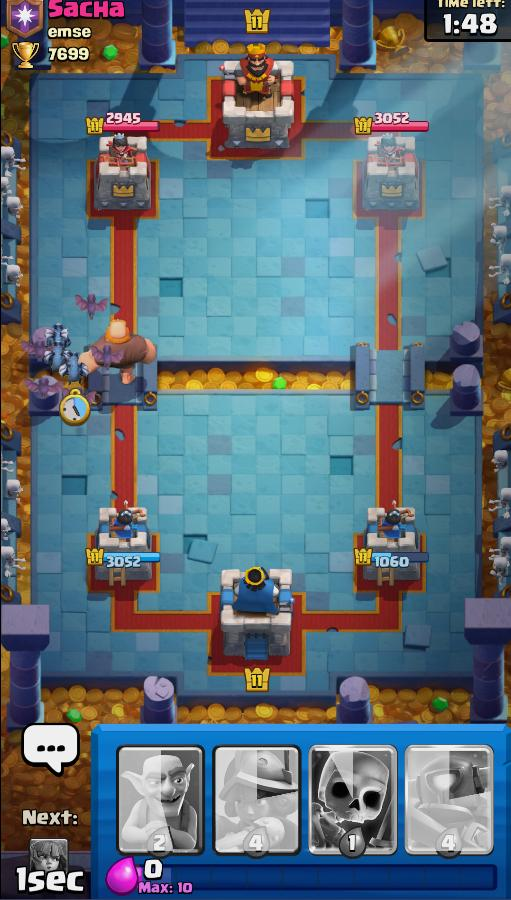bat: (73, 290, 111, 320), (24, 373, 64, 399), (58, 385, 99, 407), (91, 346, 123, 370), (21, 338, 54, 361)
gargouille: (60, 353, 89, 382), (45, 343, 69, 372), (46, 321, 71, 347)
geant: (79, 318, 157, 388)
